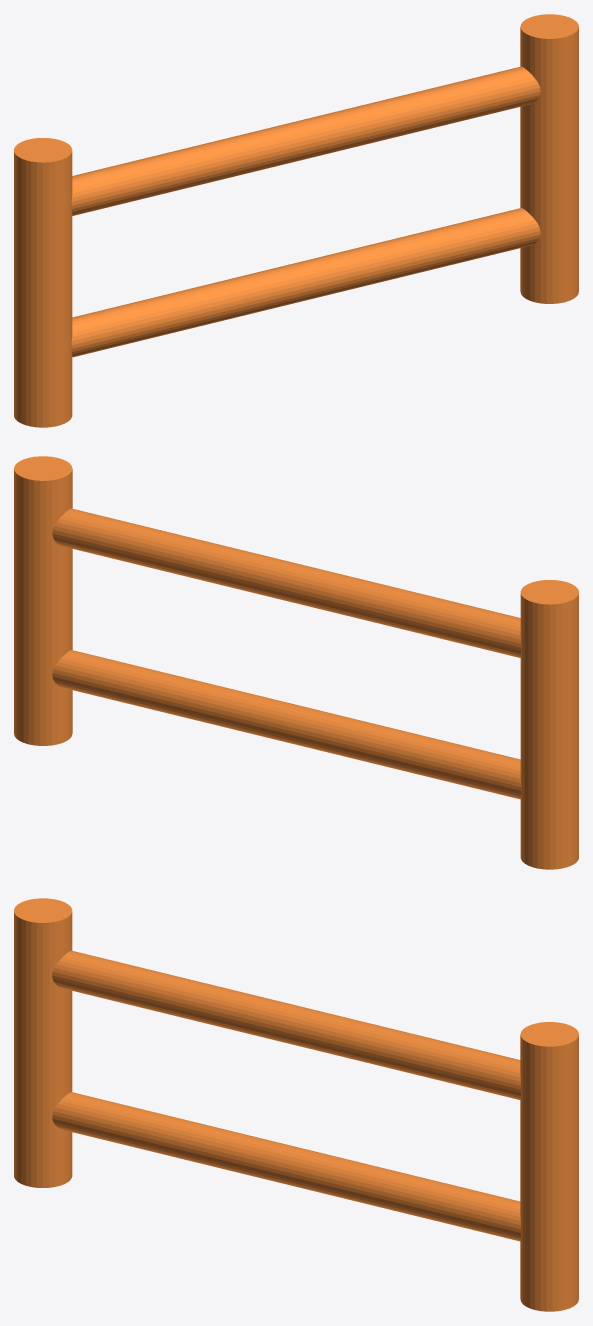
The model's file is plot1_jeden_slupek.obj.
The picture shows the model from 3 angles, top to bottom: view 1: azimuth 30°, elevation 25°; view 2: azimuth 150°, elevation 25°; view 3: azimuth 330°, elevation 25°; orthographic projection.
Parts seen in each view (by area): view 1: Cylinder.001; view 2: Cylinder.001; view 3: Cylinder.001.
Part boxes in pixels (x1,y1,x2,y2): Cylinder.001: (14,14,578,427); Cylinder.001: (14,456,578,869); Cylinder.001: (14,898,578,1311).
Bounding box in the file's own units: 3.3 × 1.5 × 0.3.
1 material, 1 textured.
